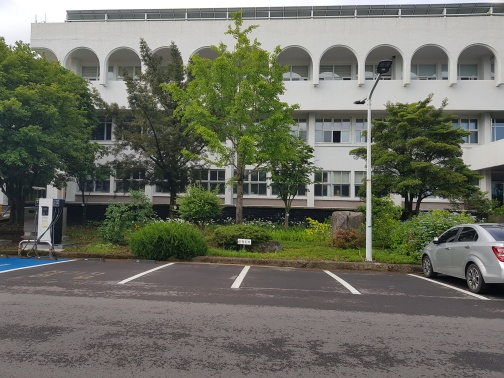Main Building of University: (23, 5, 504, 219), (312, 36, 503, 87)
